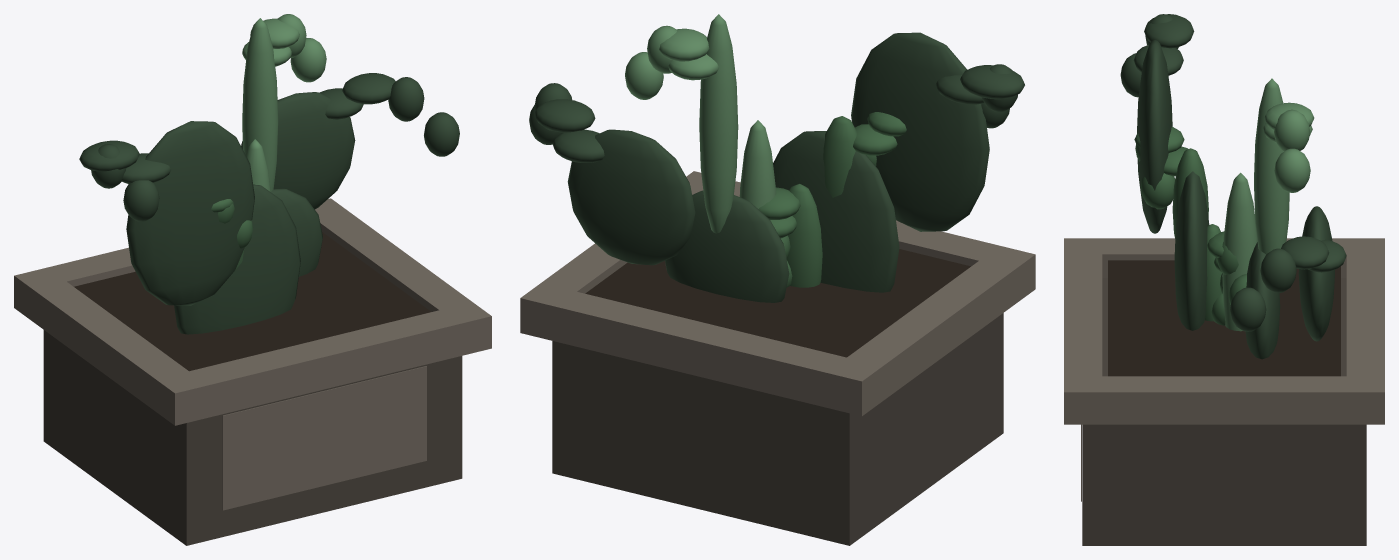
The model's file is CMU3DPottedPlant13.glb.
3 renders of one model, left to right at view 1: azimuth 30°, elevation 25°; view 2: azimuth 150°, elevation 25°; view 3: azimuth 270°, elevation 25°, orthographic. The views are drawn at different scales.
Visible parts, largest first — view 1: tapered leaf blade (×16), square pot base, inset light-facing planter band, side rim (×2), recessed soil, front and back rim (×2); view 2: tapered leaf blade (×19), square pot base, side rim (×2), front and back rim (×2), recessed soil; view 3: square pot base, tapered leaf blade (×20), side rim (×2), recessed soil, front and back rim (×2).
Part boxes in pixels (left/top/right/bottom): tapered leaf blade (×16): left=79, top=18, right=459, bottom=334; square pot base: left=43, top=330, right=462, bottom=545; inset light-facing planter band: left=222, top=366, right=426, bottom=510; side rim (×2): left=14, top=198, right=491, bottom=425; recessed soil: left=74, top=232, right=431, bottom=371; front and back rim (×2): left=47, top=247, right=458, bottom=417; tapered leaf blade (×19): left=534, top=14, right=1024, bottom=302; square pot base: left=552, top=313, right=1003, bottom=545; side rim (×2): left=520, top=171, right=1035, bottom=416; front and back rim (×2): left=556, top=181, right=999, bottom=407; recessed soil: left=585, top=249, right=970, bottom=357; square pot base: left=1082, top=278, right=1366, bottom=545; tapered leaf blade (×20): left=1120, top=14, right=1346, bottom=359; side rim (×2): left=1064, top=238, right=1384, bottom=424; recessed soil: left=1108, top=260, right=1340, bottom=376; front and back rim (×2): left=1064, top=254, right=1384, bottom=376.
Bounding box in the file's own units: 0.5611 × 0.5386 × 0.3766.
